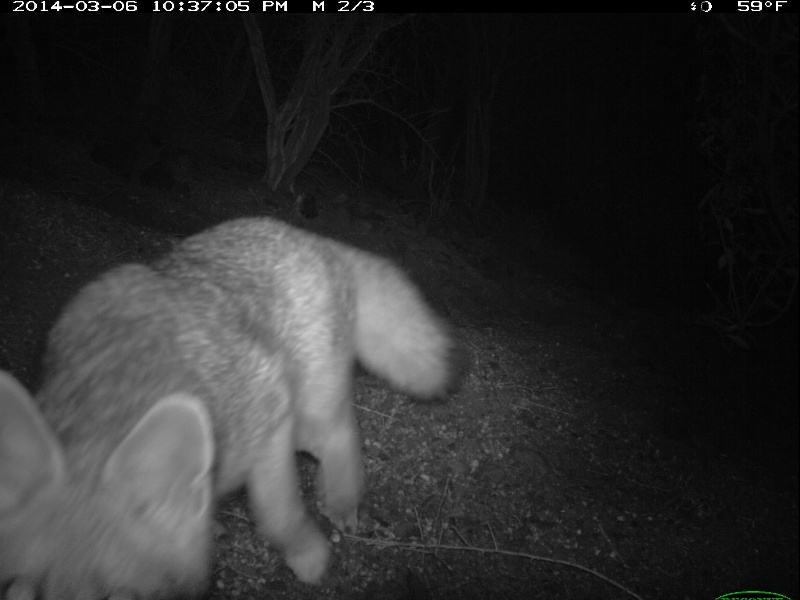fox: (4, 208, 457, 600)
